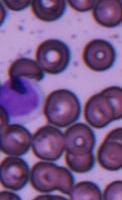L: (0, 77, 42, 118)
